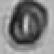correct: (6, 0, 50, 50)
